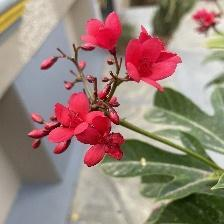jatropha: (123, 31, 180, 96)
